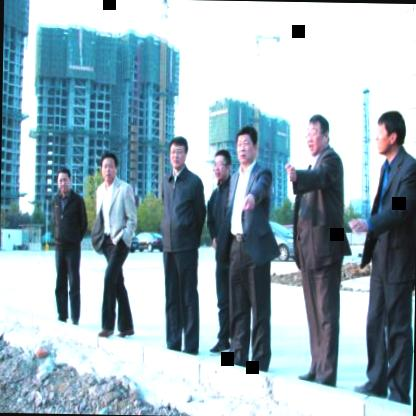head: (370, 108, 408, 156), (302, 110, 334, 157), (234, 123, 262, 168), (209, 146, 234, 186), (166, 132, 190, 170), (97, 147, 119, 184), (52, 164, 77, 195)
